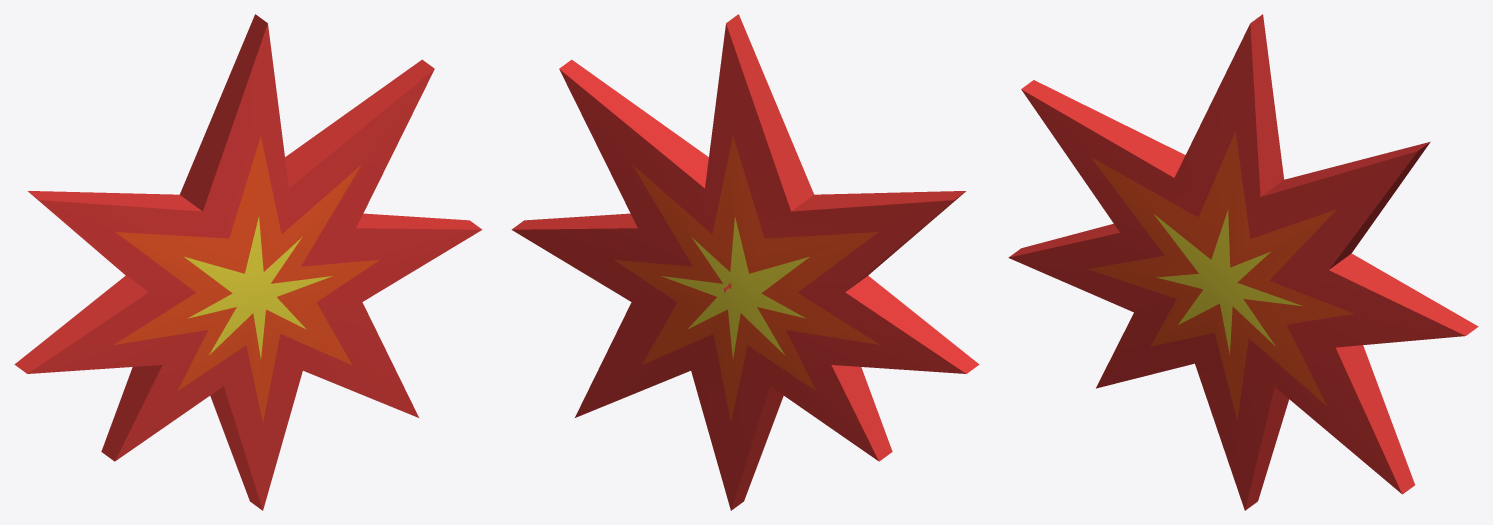
The picture shows the model from 3 angles, left to right: view 1: azimuth 30°, elevation 25°; view 2: azimuth 150°, elevation 25°; view 3: azimuth 330°, elevation 25°; orthographic projection.
Visible parts, largest first — view 1: Plane.108; view 2: Plane.108; view 3: Plane.108.
Part boxes in pixels (x1,y1,x2,y2): Plane.108: (14, 14, 482, 510); Plane.108: (511, 14, 979, 510); Plane.108: (1008, 14, 1478, 510).
Bounding box in the file's own units: 2.1 × 2.15 × 0.2832.
1 material, 1 textured.
